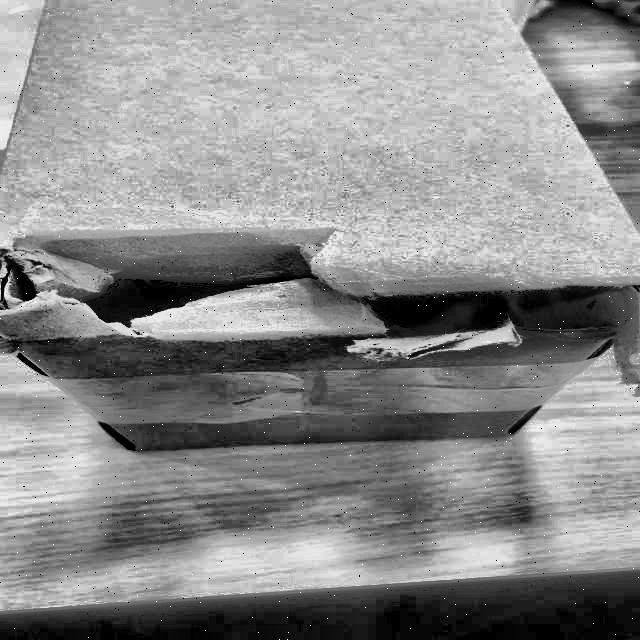box: (0, 0, 640, 472)
hole: (0, 223, 626, 369)
